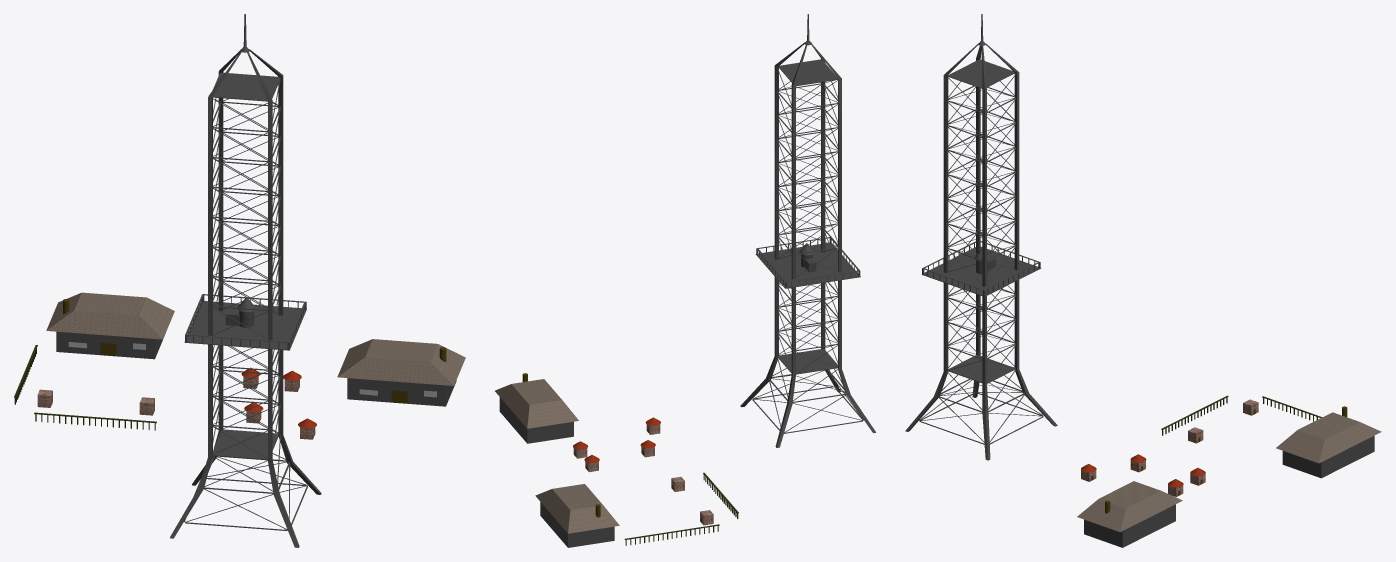
Rendered from TestPlane.dae.
3 renders of one model, left to right at view 1: azimuth 30°, elevation 25°; view 2: azimuth 150°, elevation 25°; view 3: azimuth 270°, elevation 25°, orthographic. The views are drawn at different scales.
Parts seen in each view (by area): view 1: Box14, Box03, Box07, Box08, Box02, Box35; view 2: Box14, Box07, Box03, Box08, Box02; view 3: Box14, Box03, Box07, Box08, Box02.
Boxes of the visible parts, box(x1,y1,x2,y2) form: Box14: box(170, 14, 321, 547); Box03: box(46, 292, 174, 339); Box07: box(337, 339, 465, 385); Box08: box(347, 378, 456, 406); Box02: box(56, 331, 162, 359); Box35: box(34, 412, 156, 430); Box14: box(740, 14, 875, 447); Box07: box(495, 379, 578, 428); Box03: box(535, 484, 619, 533); Box08: box(499, 397, 573, 443); Box02: box(540, 502, 614, 547); Box14: box(905, 14, 1057, 460); Box03: box(1276, 412, 1381, 463); Box07: box(1077, 481, 1182, 532); Box08: box(1084, 504, 1175, 547); Box02: box(1282, 435, 1374, 478).
Size of what is drawn, in the model's own units: 50.74 by 66.01 by 63.27.
Materials: 8 (2 with a texture image).
